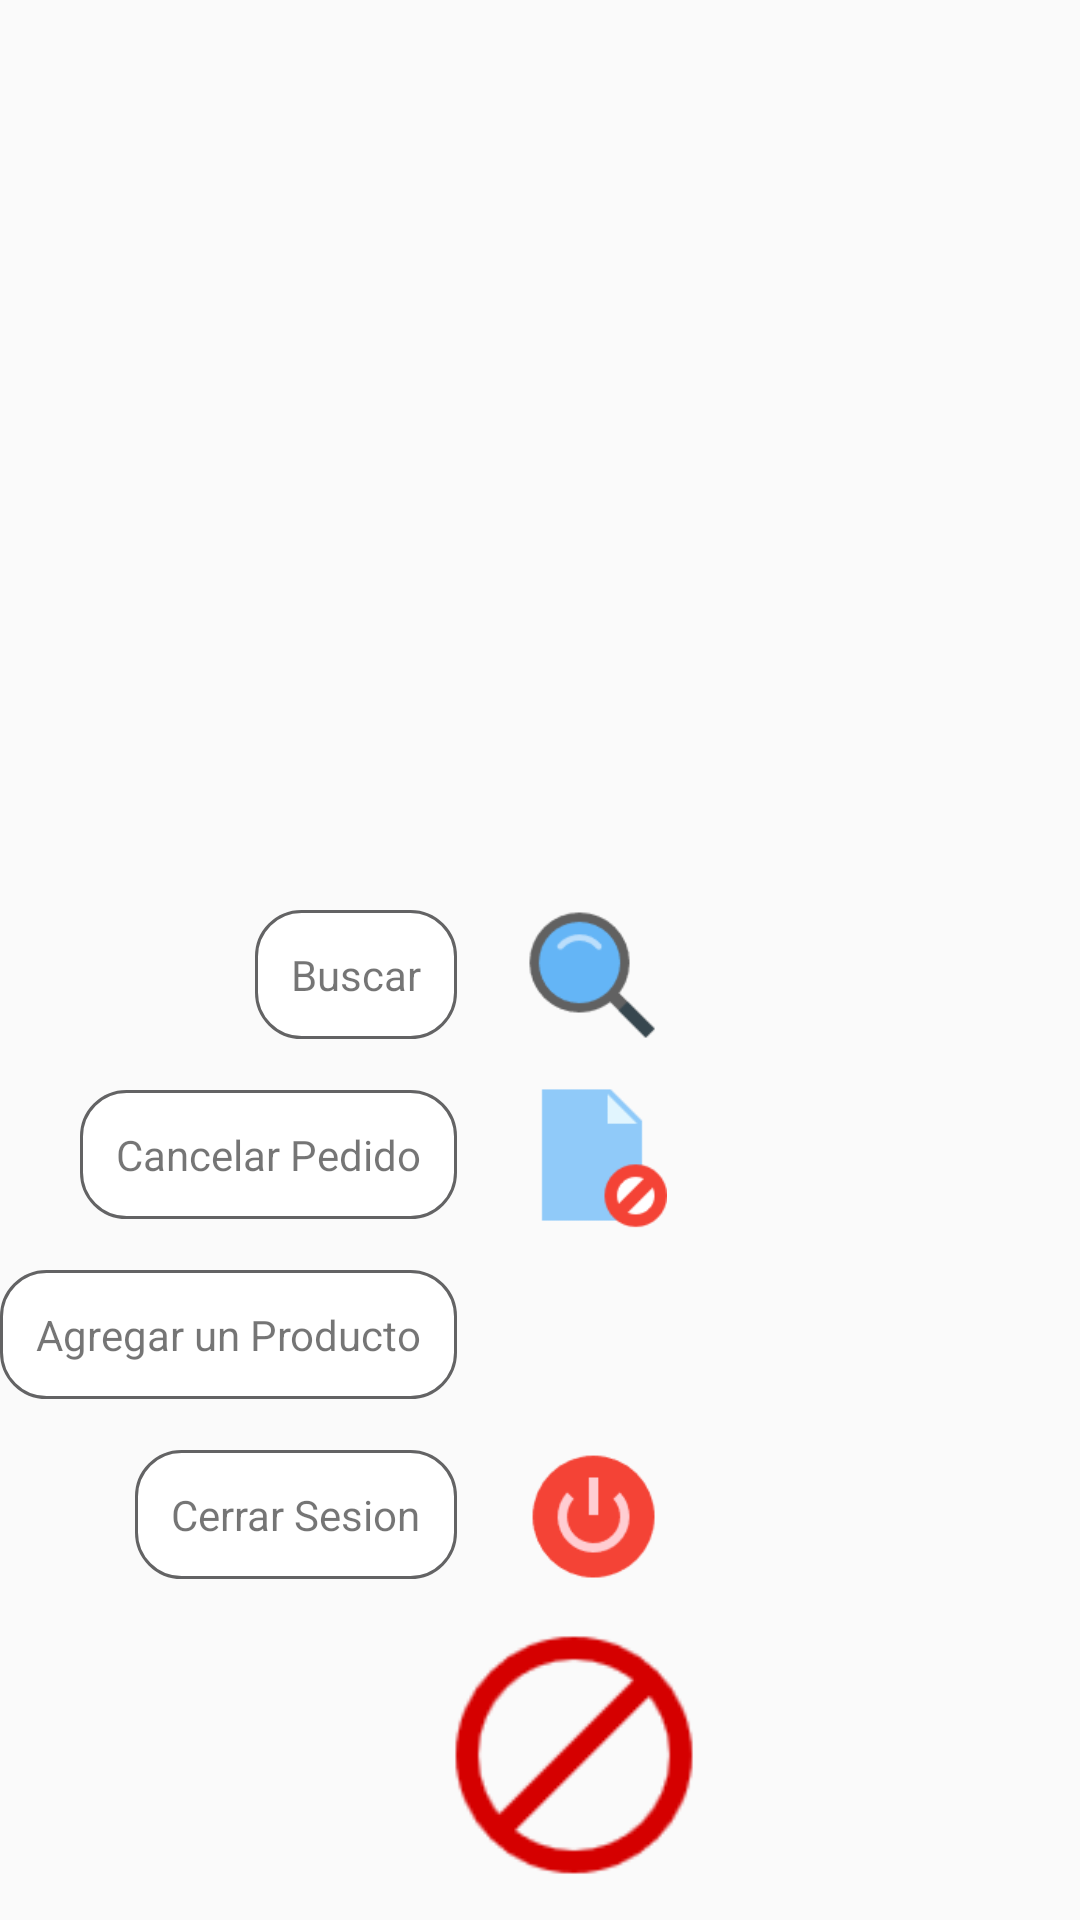

Named icons in this screenshot (1080x1920) and their centers, [x,y]:
cancel: [574,1755]
cancel file: [604,1158]
search: [592,975]
